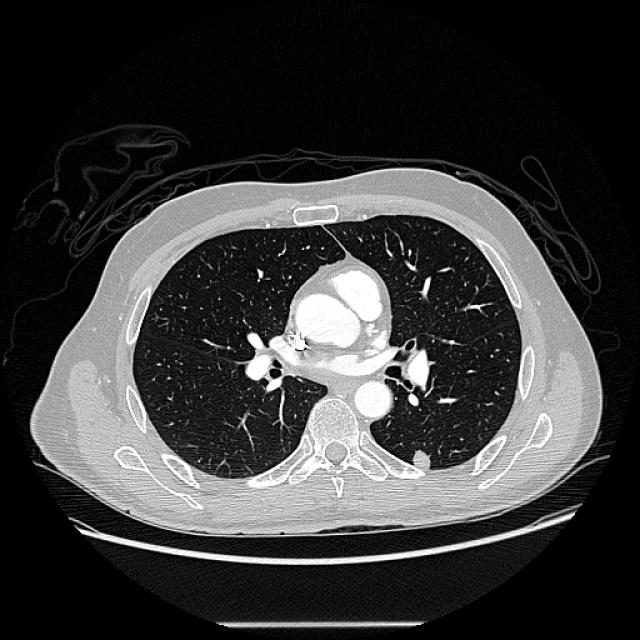nodule: (401, 440, 439, 478)
